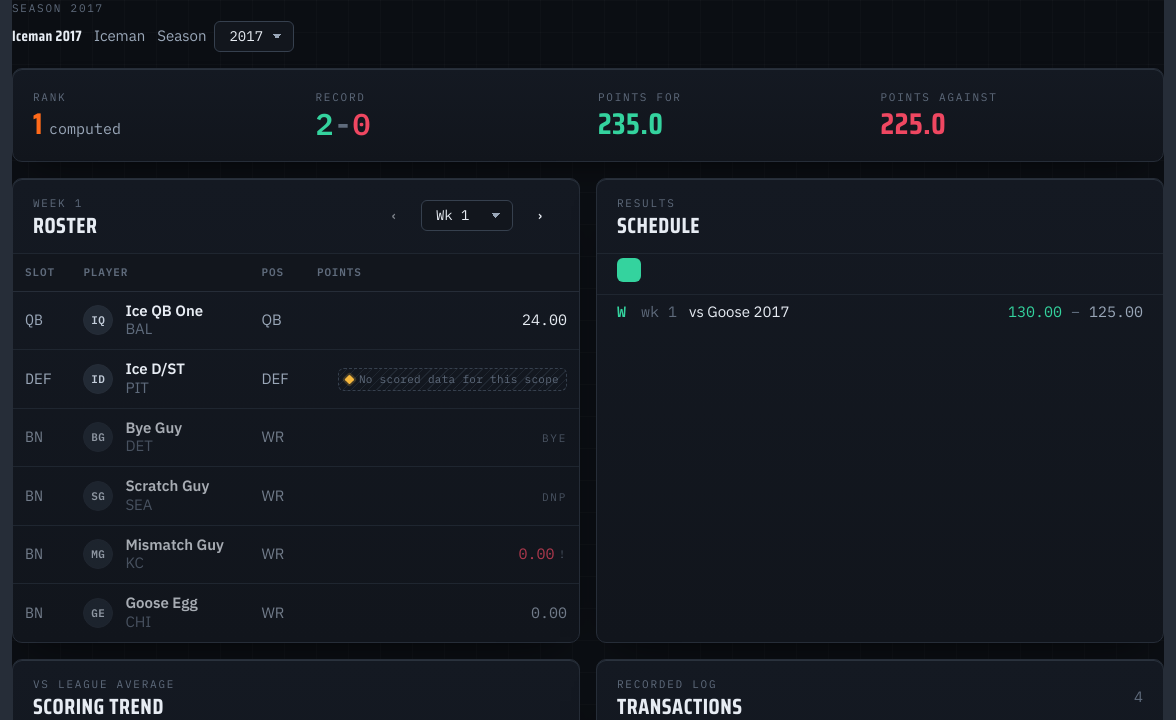
TeamPage › navigates to the selected owner's team season
The width and height of the screenshot is (1176, 720).
Expected: the heading "Iceman 2017" is shown, [12,25,82,47]
Step 1. Select "2016" in the dropdown named "Team season" → (254, 36), box [214,20,294,52]
(page scrolled)
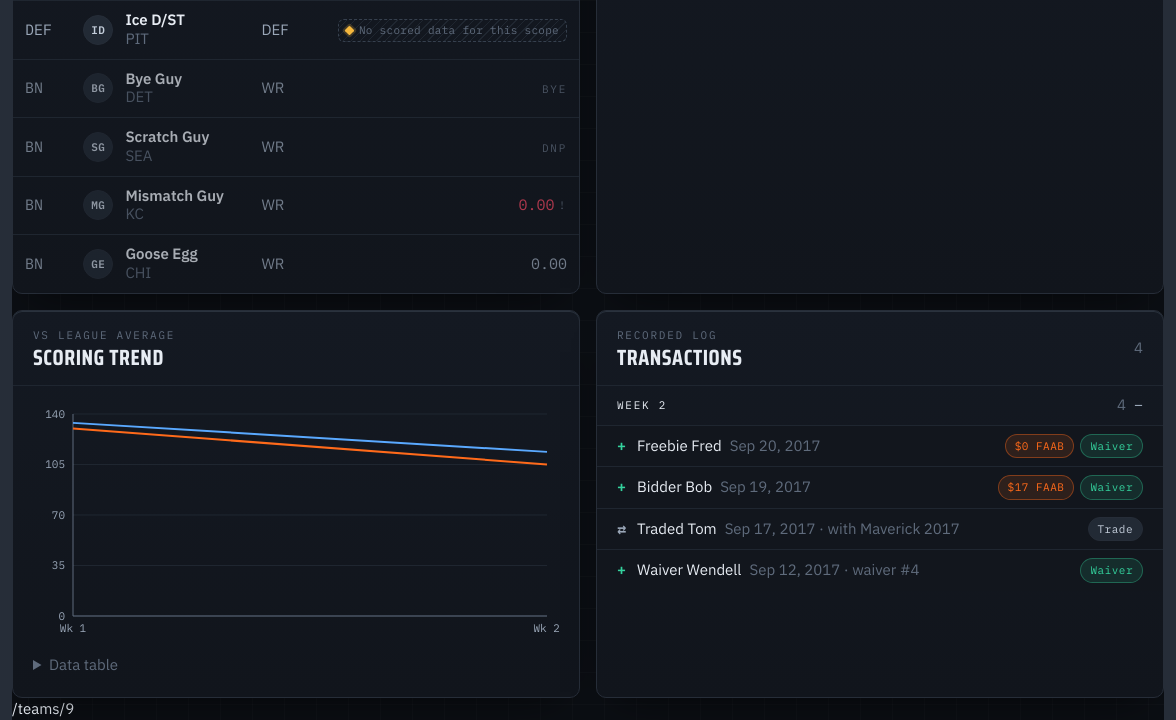
Result: the text with test id "loc" reads "/teams/9" at [12,698,74,718]
